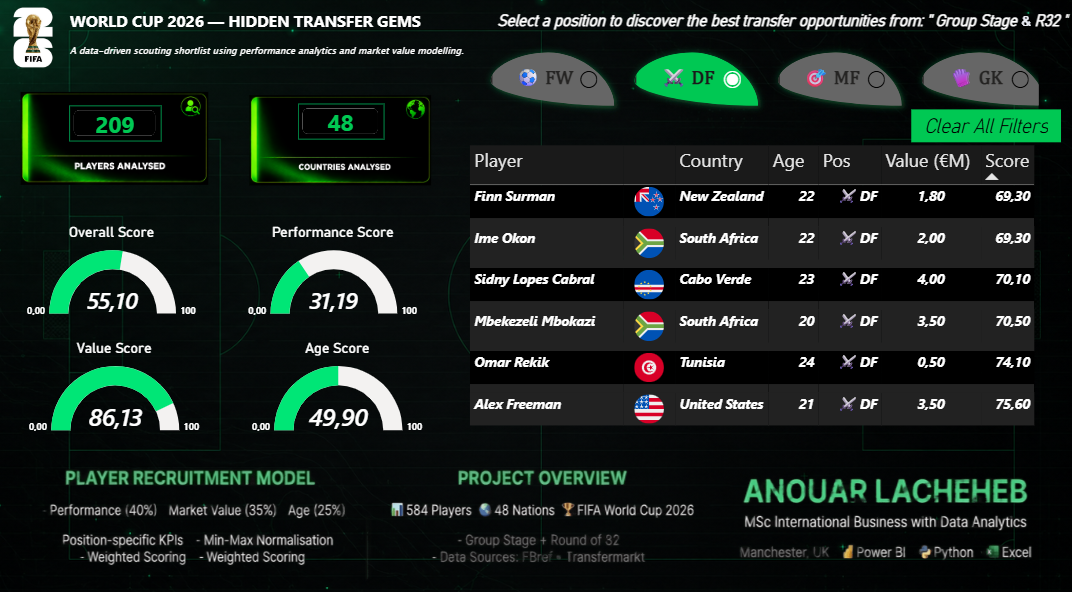

The page's visual inventory and layout, read from the dashboard file:
{"tool":"powerbi","page":{"name":"Page 1","canvas":[1280,720],"ordinal":0},"visuals":[{"type":"image","box":[24.4,39.9,221.7,259.4],"z":1000},{"type":"image","box":[294.8,115.3,215,113.1],"z":2000},{"type":"tableEx","fields":{"Values":["Append1.Player","World_Cup_2026_48_Teams_Circular_Flags.CircularFlagSVG","Append1.Country","Append1.Age_tm","Append1.Pos","Append1.Value_M","Append1.Score"]},"box":[548.8,173.9,704.8,356.9],"z":3000},{"type":"textbox","box":[77.6,13.3,432.3,37.7],"z":4000},{"type":"advancedSlicerVisual","fields":{"Values":["Append1.Pos"]},"box":[543.1,51,711.6,97.5],"z":5000},{"type":"image","box":[0,13.3,77.6,73.2],"z":6000},{"type":"textbox","box":[574.1,13.3,702.7,53.2],"z":7000},{"type":"gauge","title":"Overall Score ","fields":{"Y":["Avg(Append1.Score)"],"MaxValue":["Append1.Measure"]},"box":[22.2,270.4,219.5,124.1],"z":8000},{"type":"gauge","title":"Performance Score ","fields":{"MaxValue":["Append1.Measure"],"Y":["Append1.Perf_Score"]},"box":[283.7,270.4,219.5,124.1],"z":9000},{"type":"gauge","title":"Value Score ","fields":{"MaxValue":["Append1.Measure"],"Y":["Avg(Append1.n_val)"]},"box":[23.3,407.4,221.2,124.2],"z":10000},{"type":"gauge","title":"Age Score ","fields":{"MaxValue":["Append1.Measure"],"Y":["Avg(Append1.n_age)"]},"box":[287.2,407.4,221.2,124.2],"z":11000},{"type":"cardVisual","fields":{"Data":["Count(Append1.Country)"]},"box":[352.5,128.6,102,42.1],"z":12000},{"type":"actionButton","box":[1076.7,135,176.9,39],"z":13000},{"type":"cardVisual","fields":{"Data":["Count(Append1.Player)"]},"box":[82,130.8,108.6,42.1],"z":14000},{"type":"textbox","box":[77.6,51,496.6,35.5],"z":15000},{"type":"image","box":[2.2,447.8,1276.9,254.9],"z":15001}]}

Visuals, with their boxes in screenshot pixels (x1, y1, x2, y2), scaled from the page's 1280x720 canvas onto the 1072x592 screenshot:
image: (20,33,206,246)
image: (247,95,427,188)
tableEx - Append1.Player x World_Cup_2026_48_Teams_Circular_Flags.CircularFlagSVG: (460,143,1050,436)
textbox: (65,11,427,42)
advancedSlicerVisual - Append1.Pos: (455,42,1051,122)
image: (0,11,65,71)
textbox: (481,11,1069,55)
"Overall Score " gauge: (19,222,202,324)
"Performance Score " gauge: (238,222,421,324)
"Value Score " gauge: (20,335,205,437)
"Age Score " gauge: (241,335,426,437)
cardVisual - Count(Append1.Country): (295,106,381,140)
actionButton: (902,111,1050,143)
cardVisual - Count(Append1.Player): (69,108,160,142)
textbox: (65,42,481,71)
image: (2,368,1071,578)
